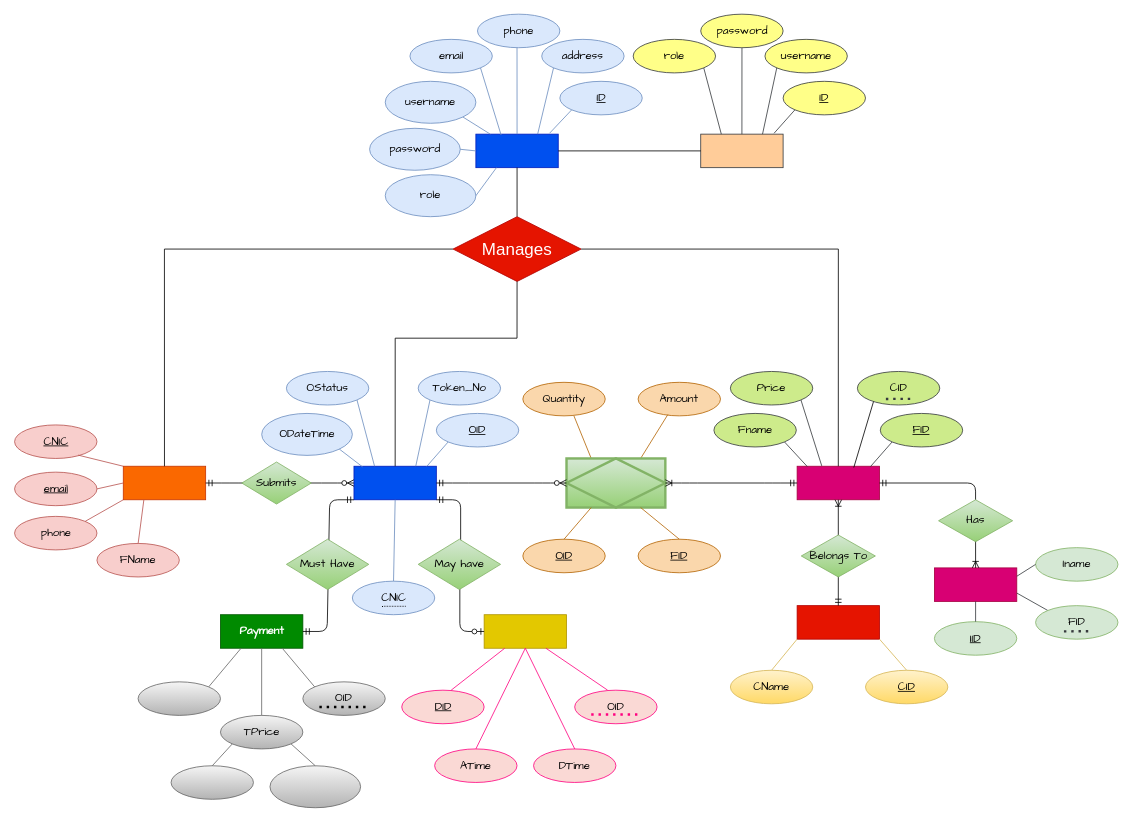
This 1132x822 diagram has some shape labels left out. The shapes that lost their labels are listed below. From the top down, each one's box as (x1, y1, x2, y2) in pixels, then its label:
(475, 133, 558, 168): User
(700, 133, 783, 168): Login
(122, 465, 206, 500): Customer
(353, 465, 436, 500): Orders
(565, 457, 666, 508): Order Details
(796, 465, 879, 500): Food
(934, 567, 1017, 601): Food_Image
(483, 614, 567, 648): Delivery
(796, 605, 879, 639): Category
(137, 681, 220, 715): PID
(170, 765, 253, 799): FPrice
(269, 765, 361, 808): DCharg
